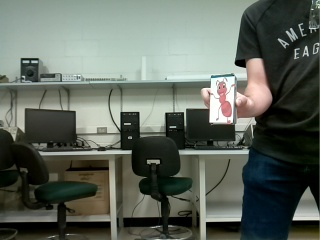Happy: (210, 77, 236, 123)
